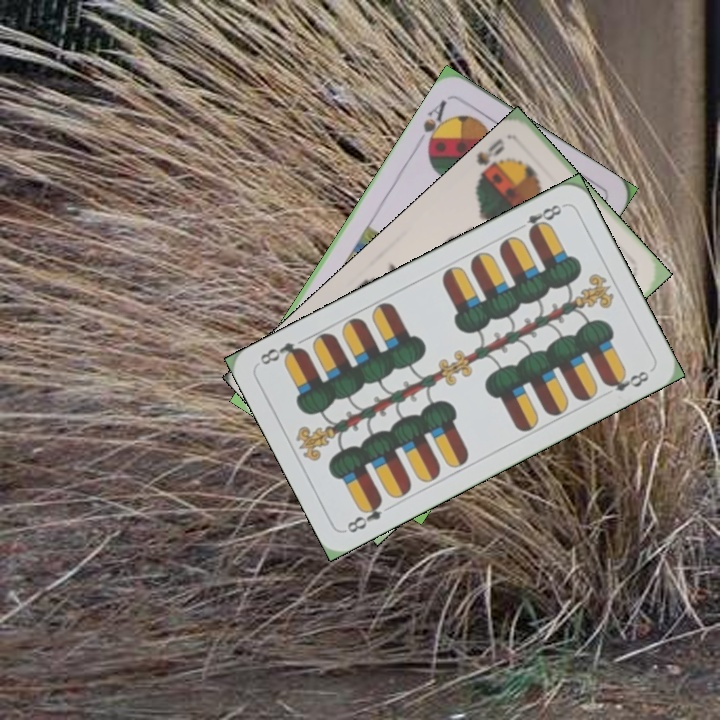E8: (512, 200, 567, 238), (342, 494, 385, 536)
SA: (419, 95, 452, 153)
SO: (472, 134, 507, 187)
